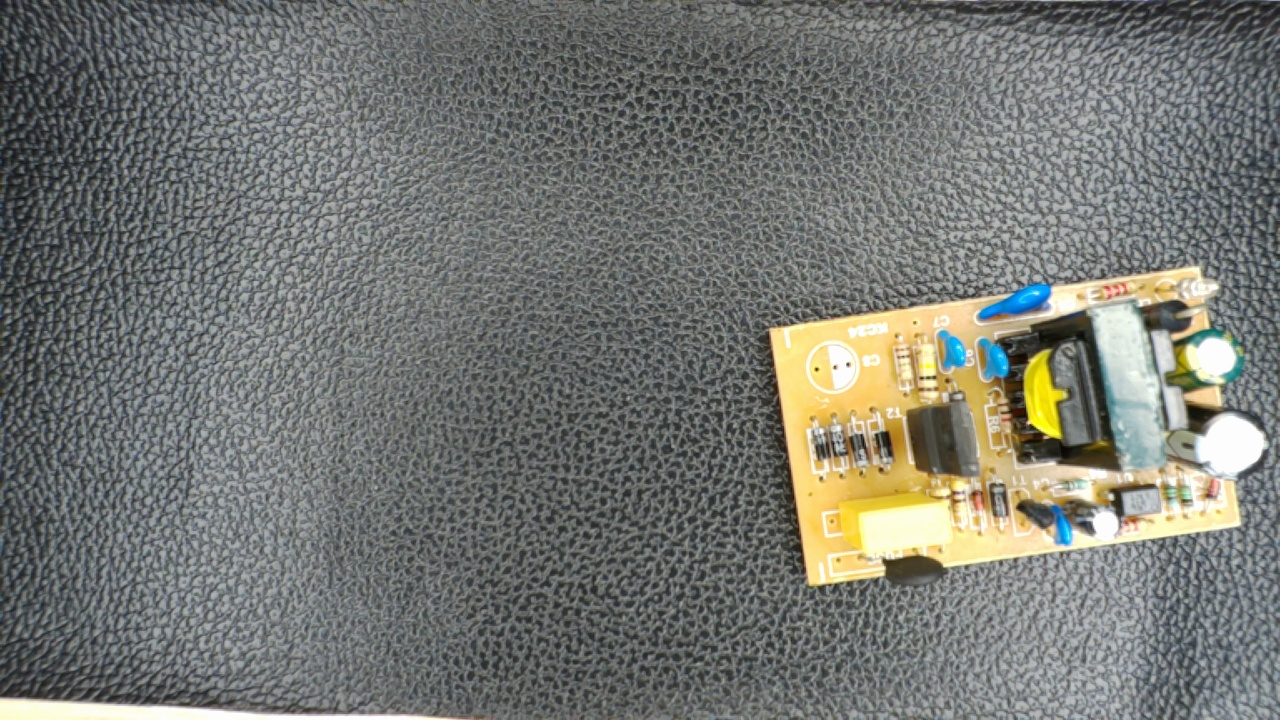fuse: (855, 545, 954, 590)
mov: (972, 276, 1062, 329)
optocoupler: (1104, 480, 1170, 524)
